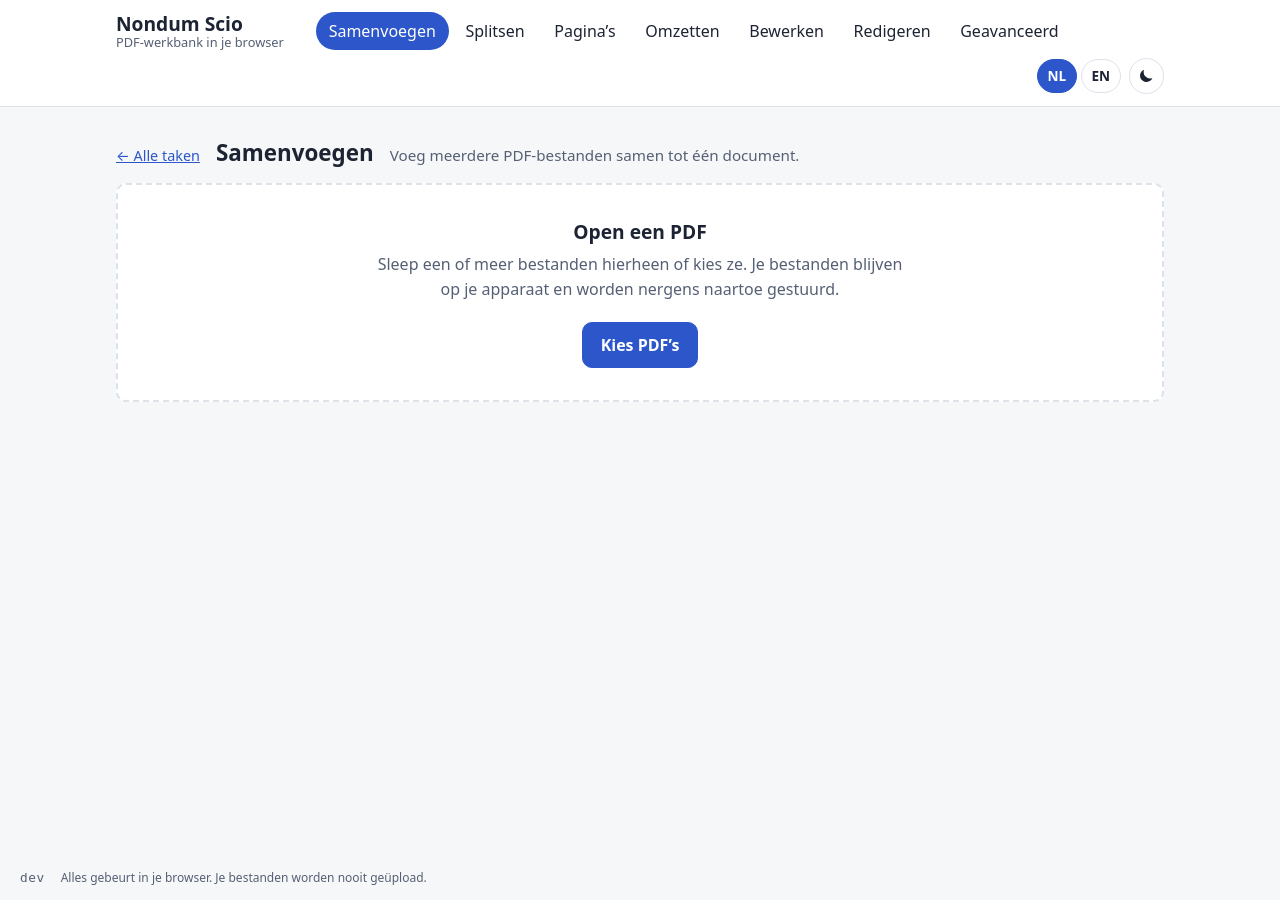
Test case: taalkeuze › wisselt alles mee: teksten, menu, titel, lang-attribuut en bewaarde keuze
Click the button with aria-label "English" at (1101, 76), box [1081, 59, 1121, 93]
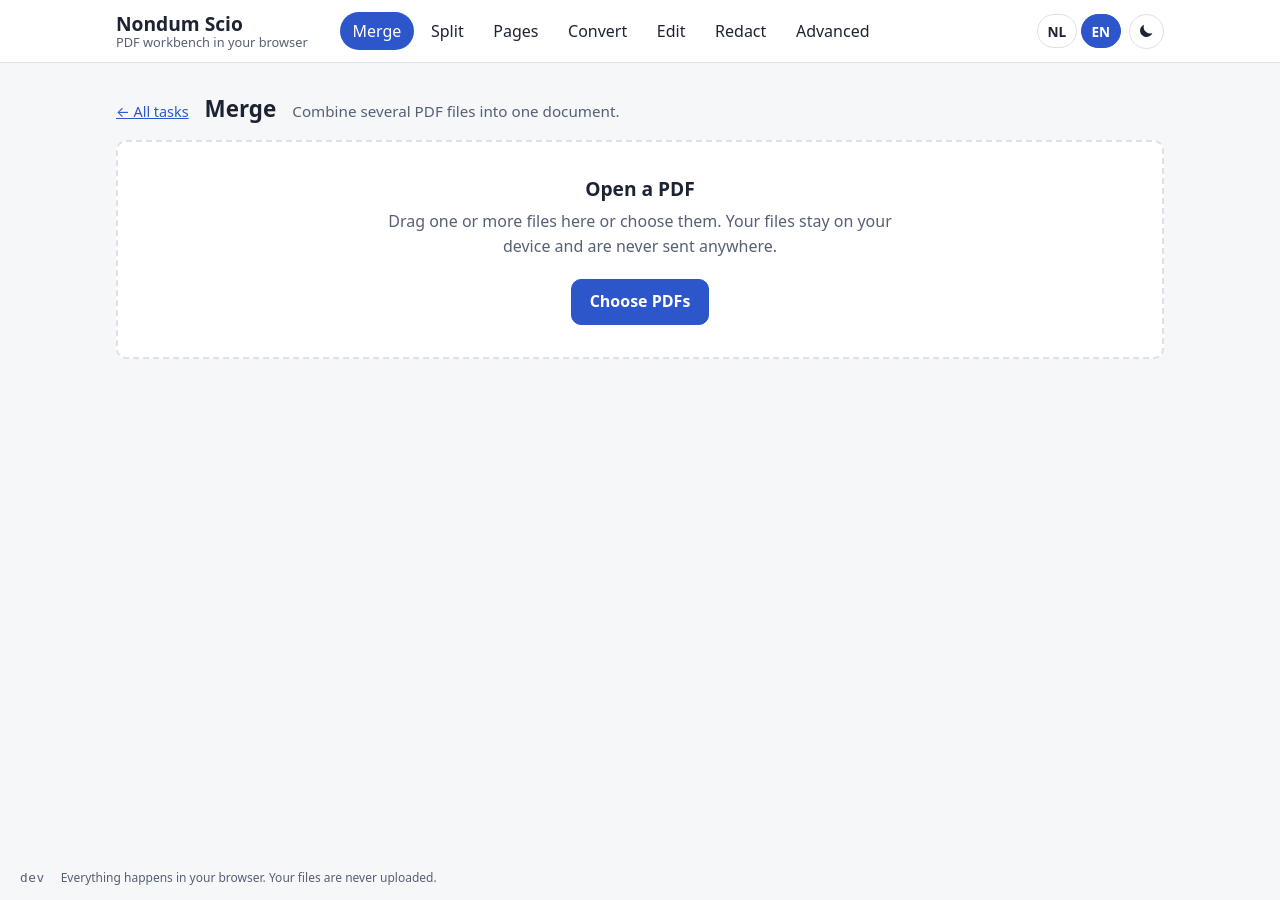
Expected: the heading "Merge" is shown, [205, 95, 276, 123]
Expected: the text "Combine several PDF files into one document." is shown, [292, 100, 620, 124]
Expected: the navigation bar named "Main menu" is shown, [340, 12, 882, 50]
